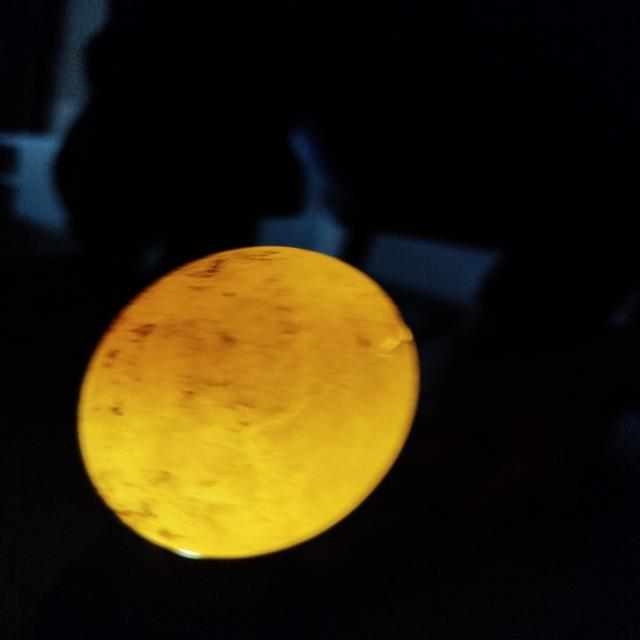Rachadura: (171, 318, 415, 511)
